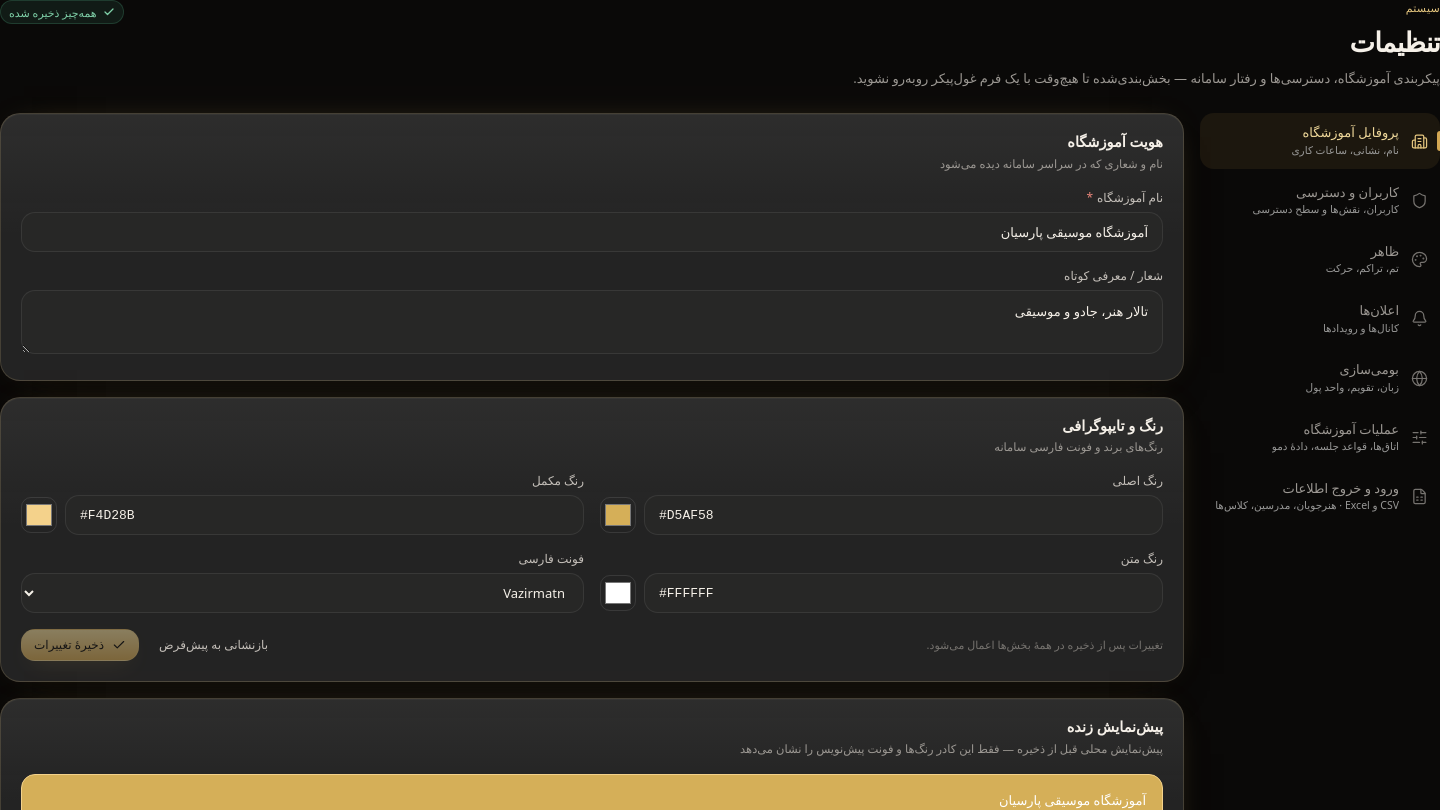
Test: M-6 functional settings remain functional › appearance section is labeled as device-local, not server-persisted
# Switch to appearance
Click the button "ظاهر تم، تراکم، حرکت". click: (1320, 260)
box: [1200,232,1439,287]
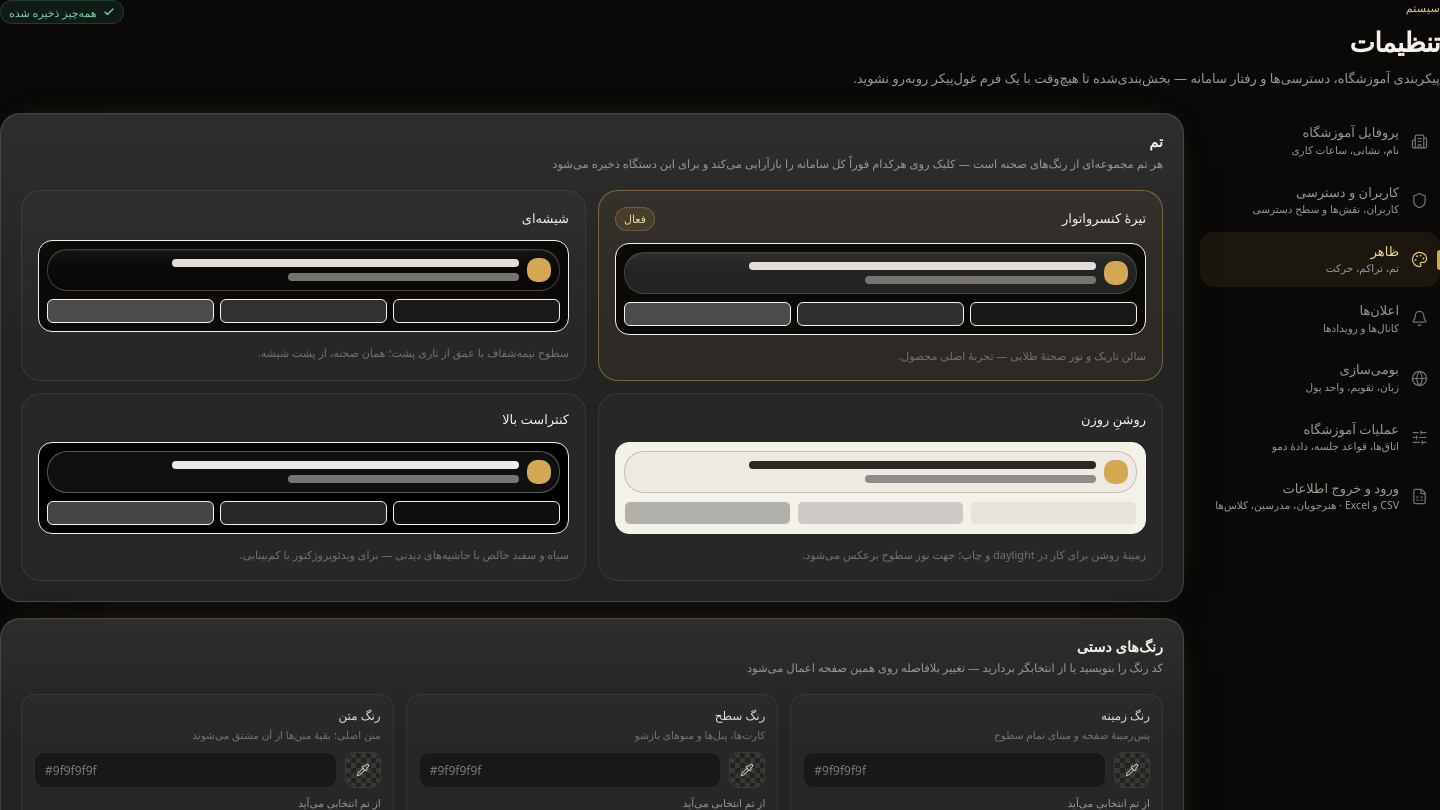
Now the text "برای این دستگاه ذخیره می‌شود" is shown, box [552,156,1163,171]
Now the text "تیرهٔ کنسرواتوار" is shown, box [1062,209,1146,228]
Now the text "شیشه‌ای" is shown, box [522,209,569,228]
